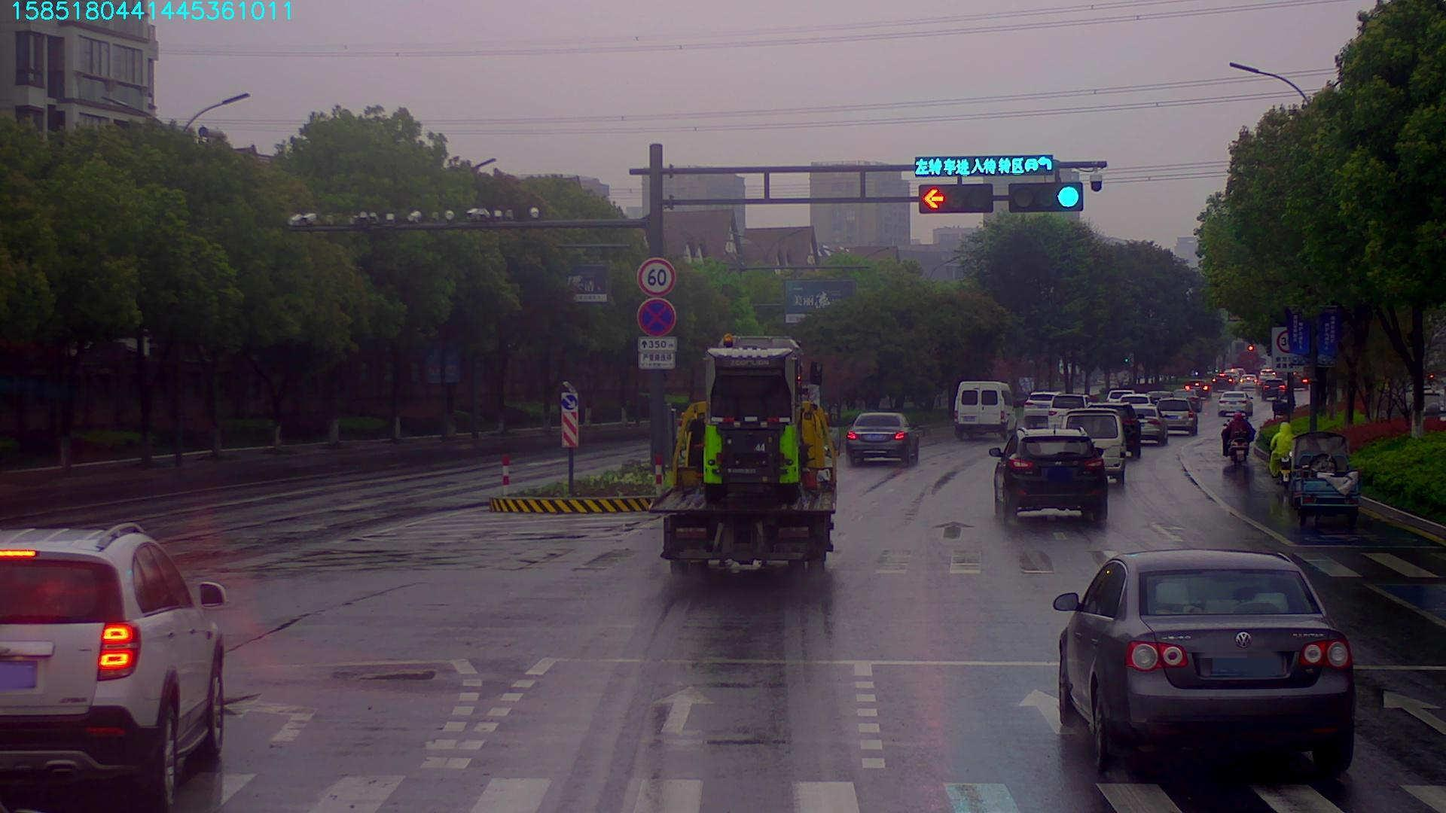green: (1003, 182, 1081, 209)
red: (917, 184, 985, 215)
wait_on: (912, 156, 1051, 172)
